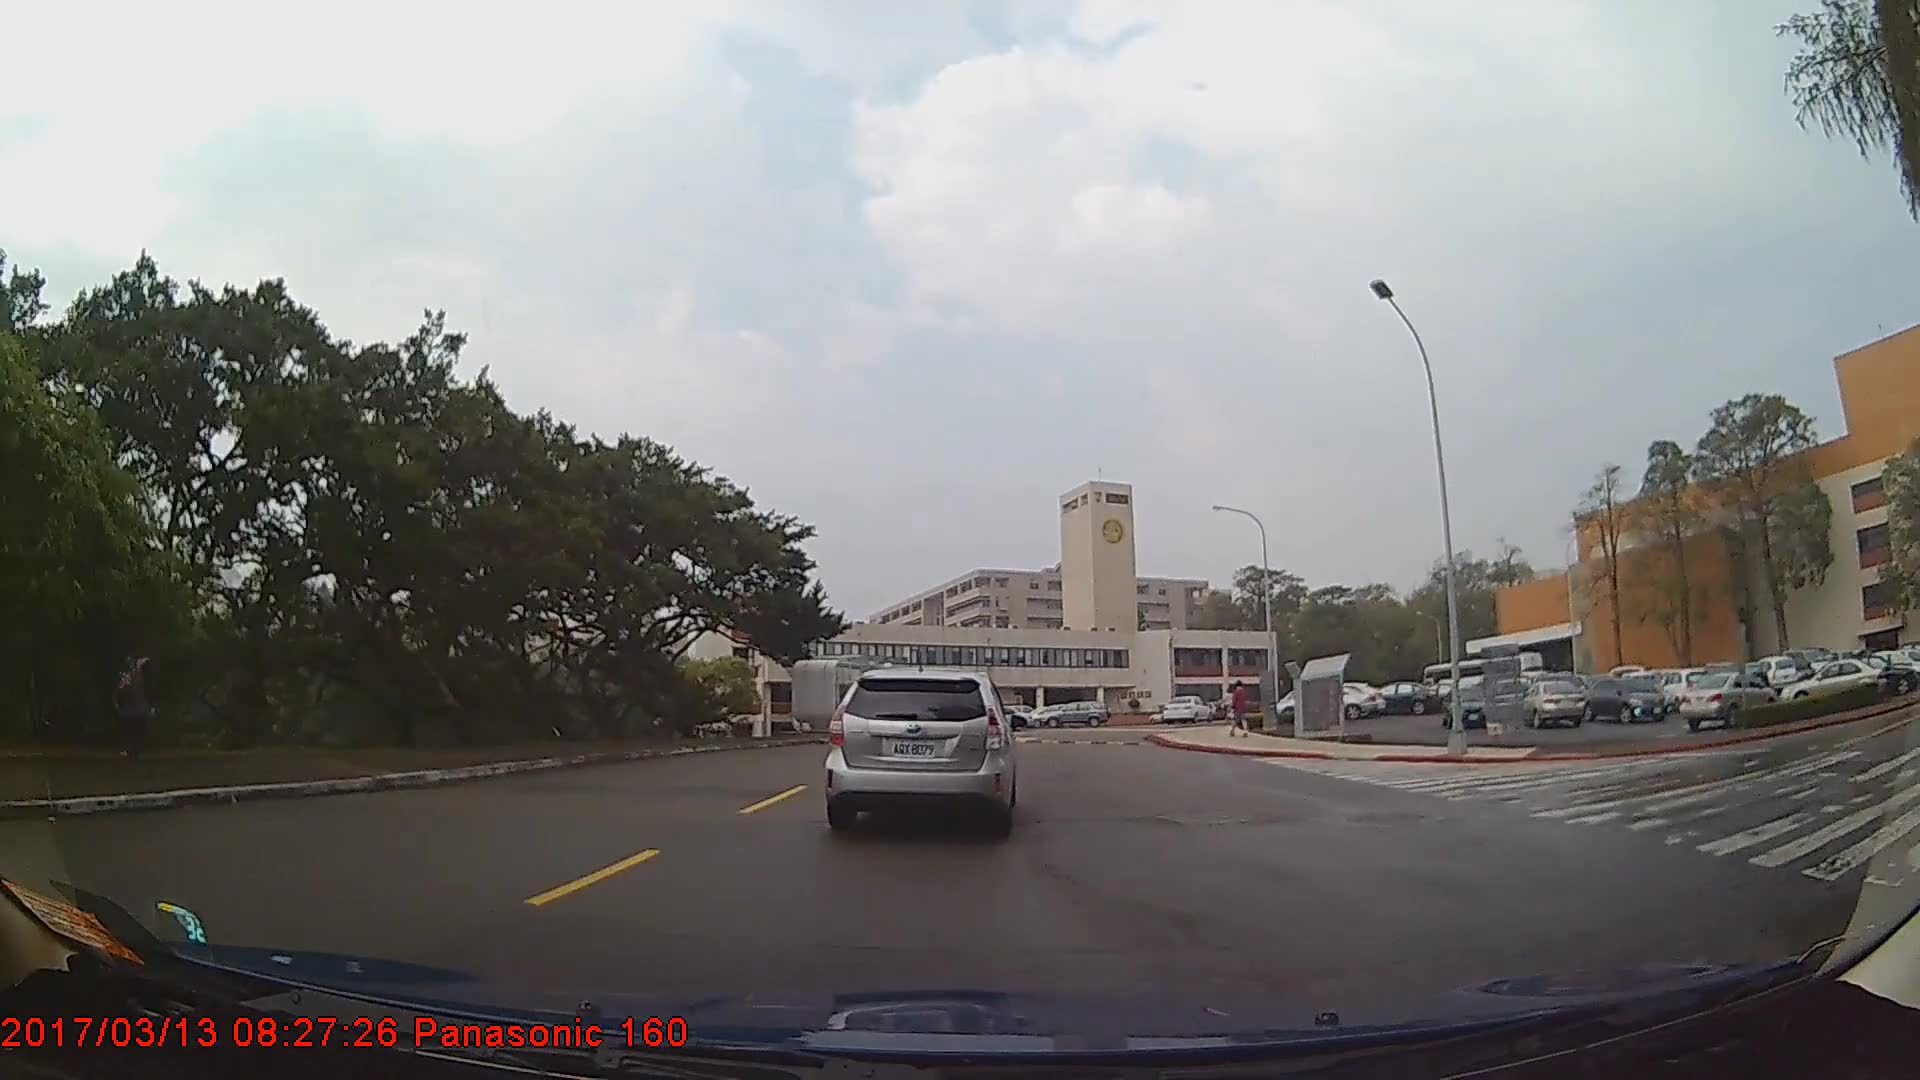pedestrian: (108, 634, 165, 766), (1229, 681, 1252, 739)
vehicle: (828, 665, 1014, 833), (1678, 667, 1774, 729), (1780, 657, 1886, 706), (1584, 674, 1669, 723), (1518, 676, 1588, 728), (1365, 679, 1439, 714), (1443, 683, 1498, 727), (1035, 698, 1109, 726), (1161, 692, 1214, 724)
